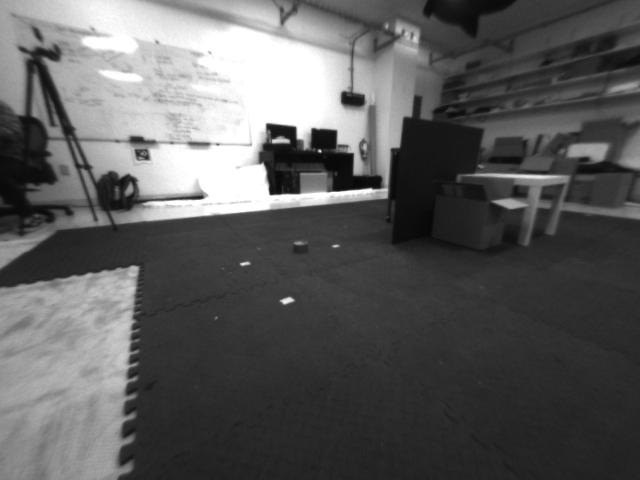dogtoy: (282, 232, 311, 260)
